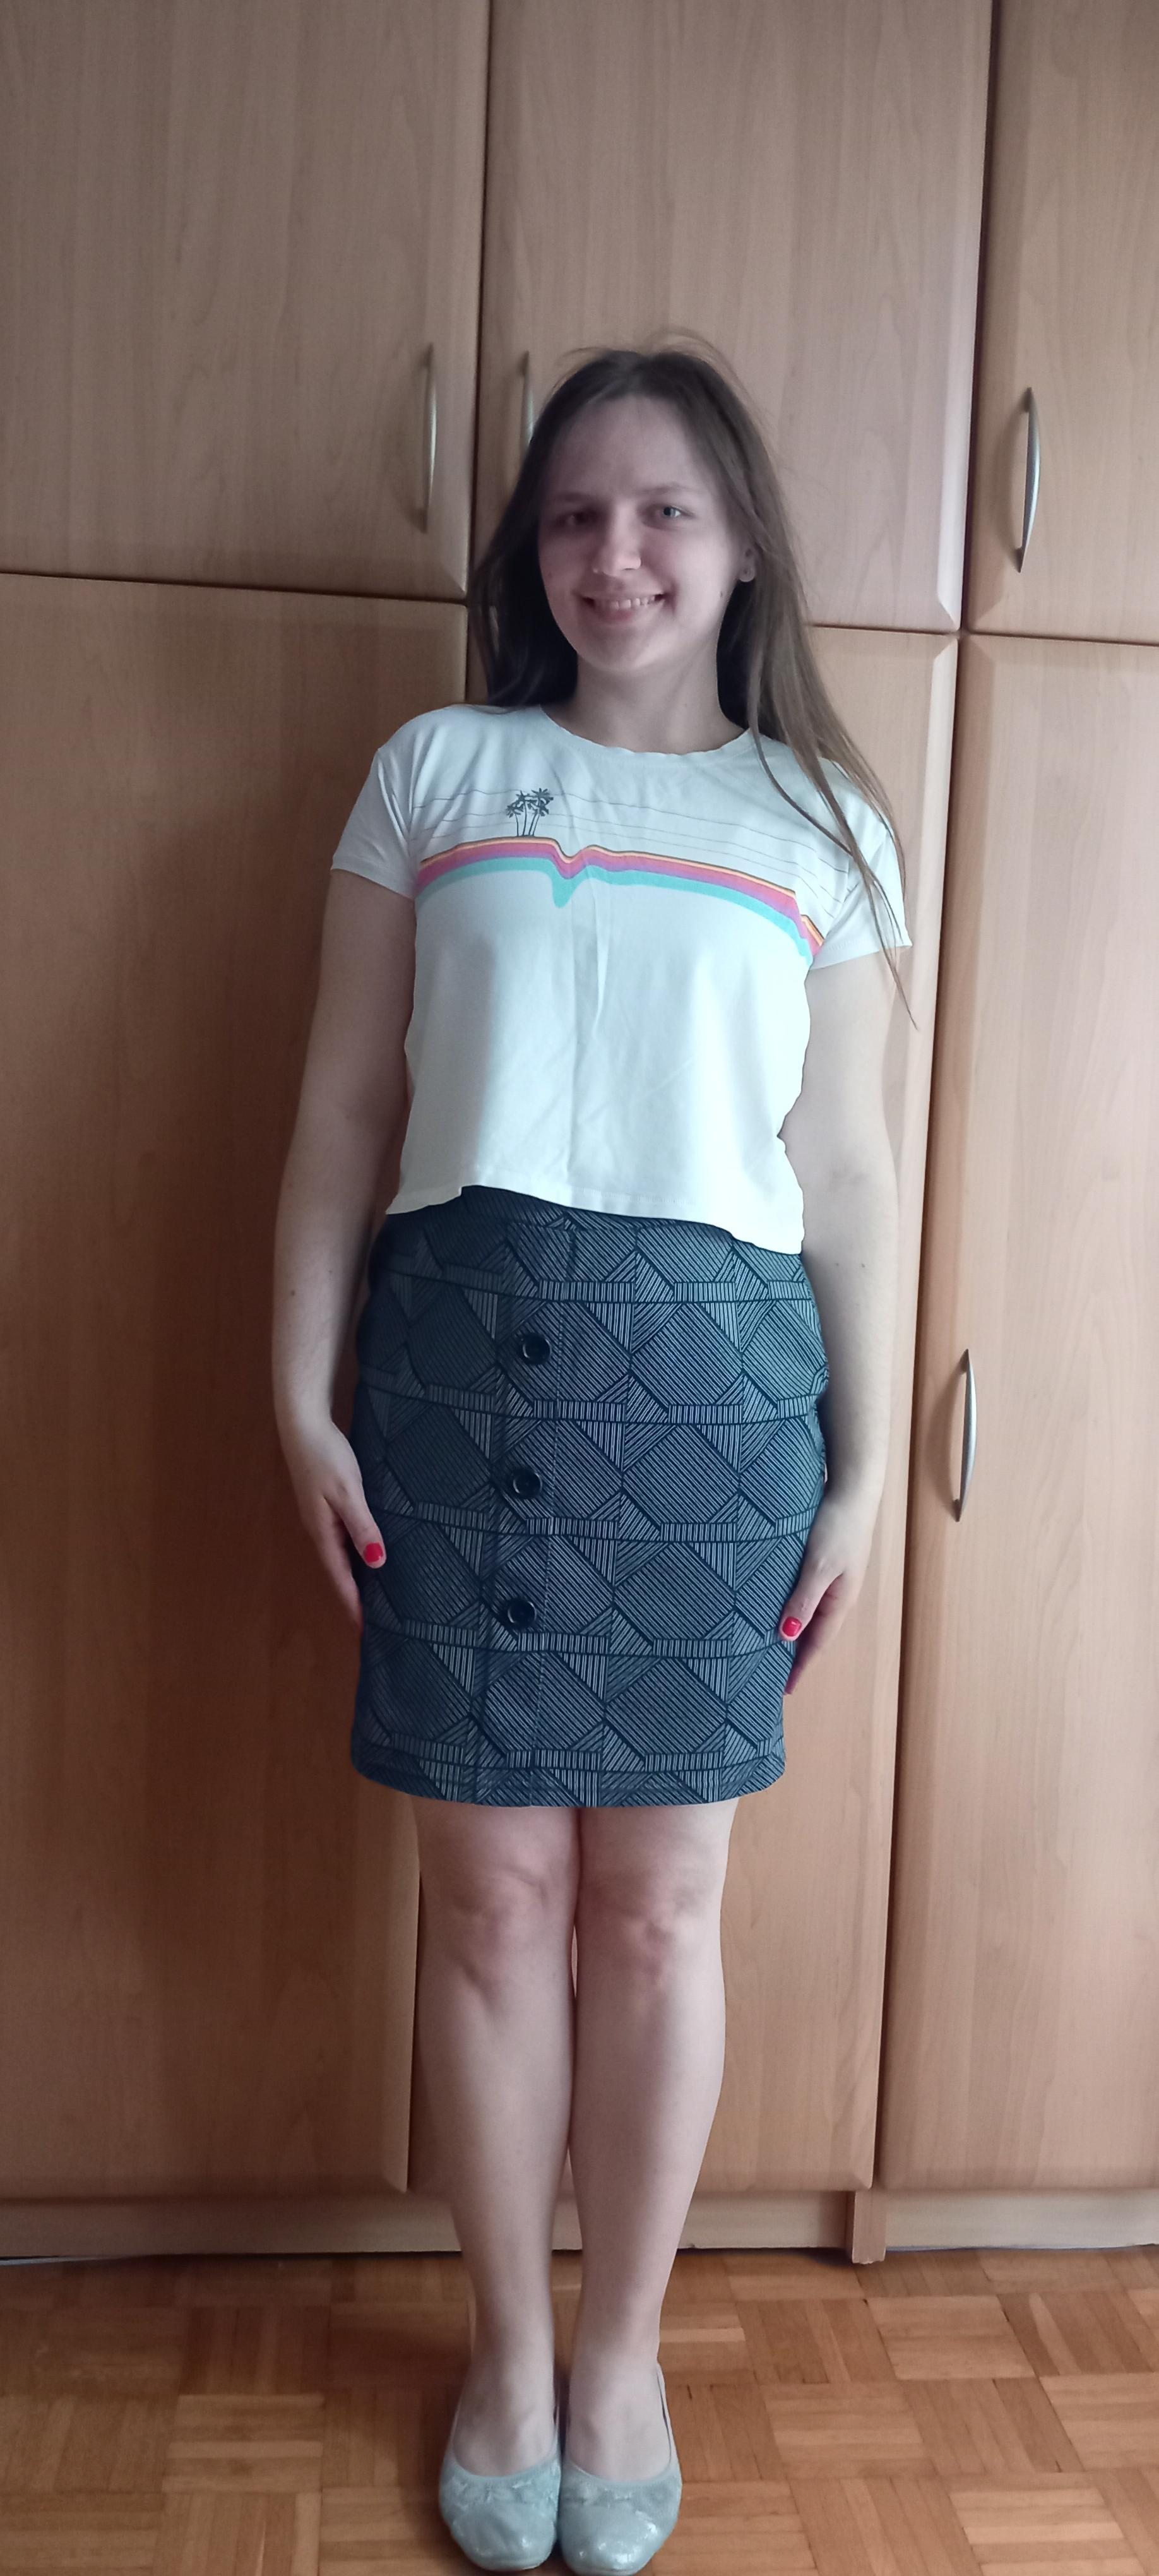Tshirt: (328, 705, 916, 1257)
skirt: (351, 1189, 827, 1809)
